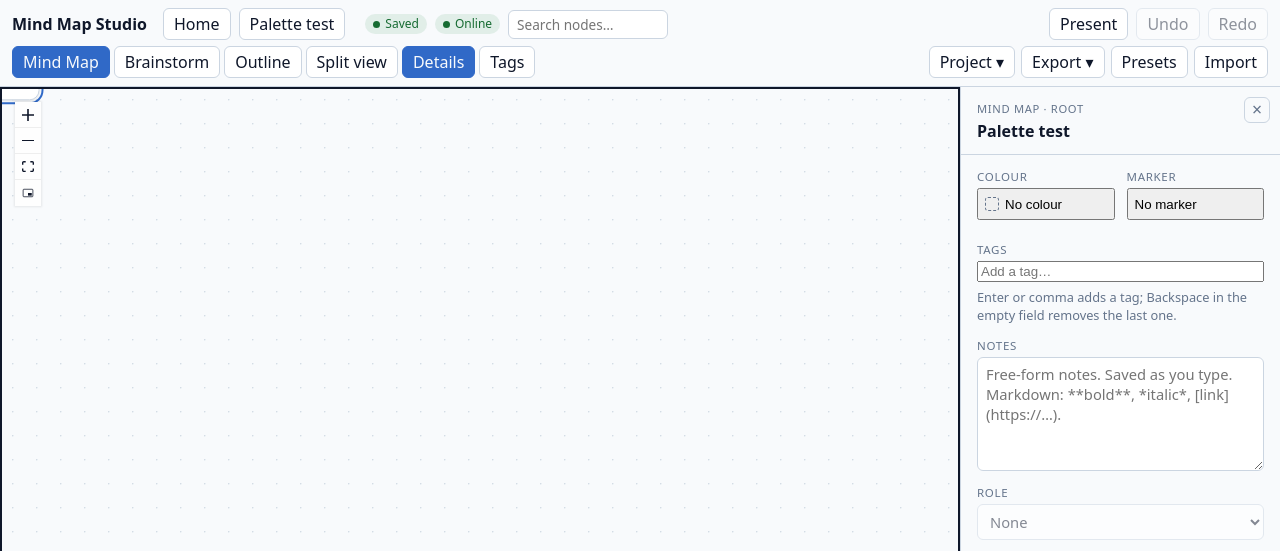
Test: Command palette — filtering and running › filters the list as you type
The image size is (1280, 551).
Press k
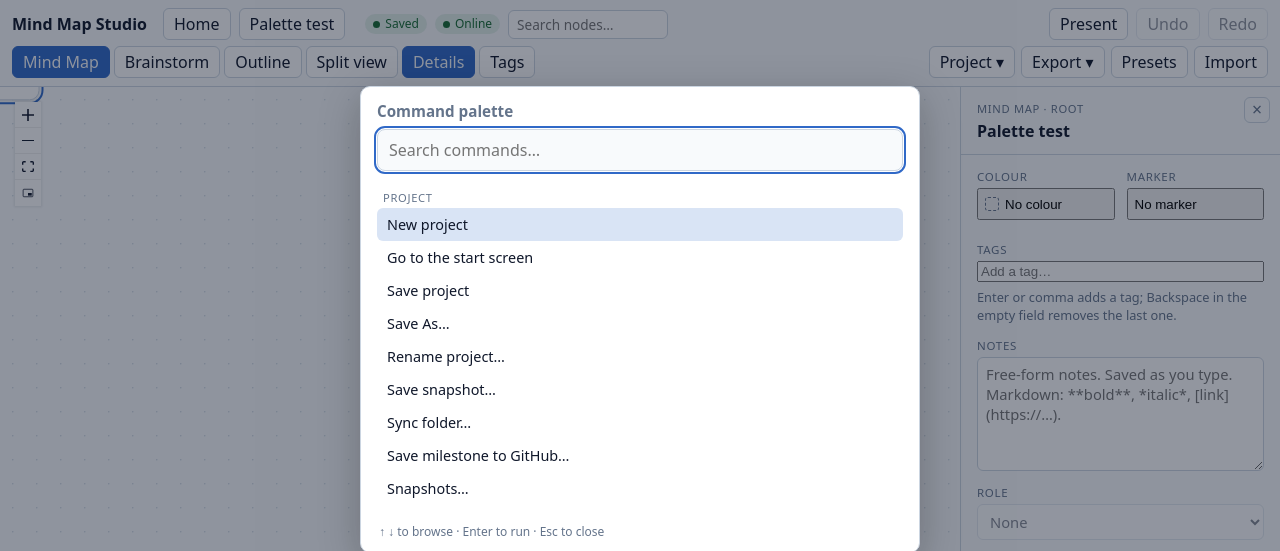
Type "Go to Outline" into the dropdown with test id "command-palette-input" at (640, 150), box [377,129,903,171]
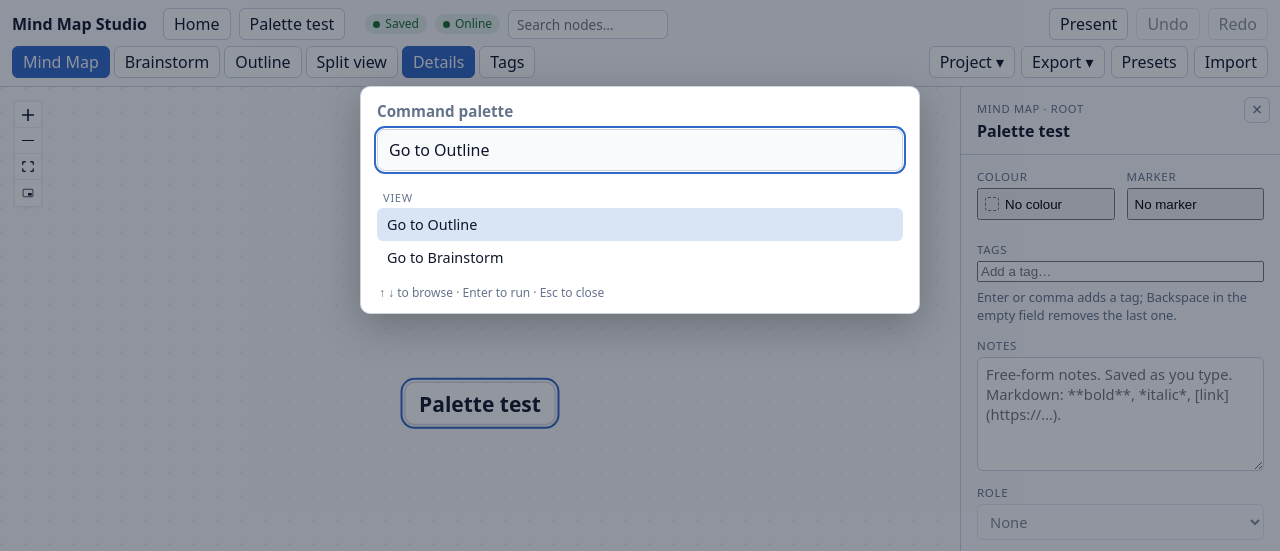
Now the option with test id "command-item-view.outline" is shown, box [377,208,903,241]
